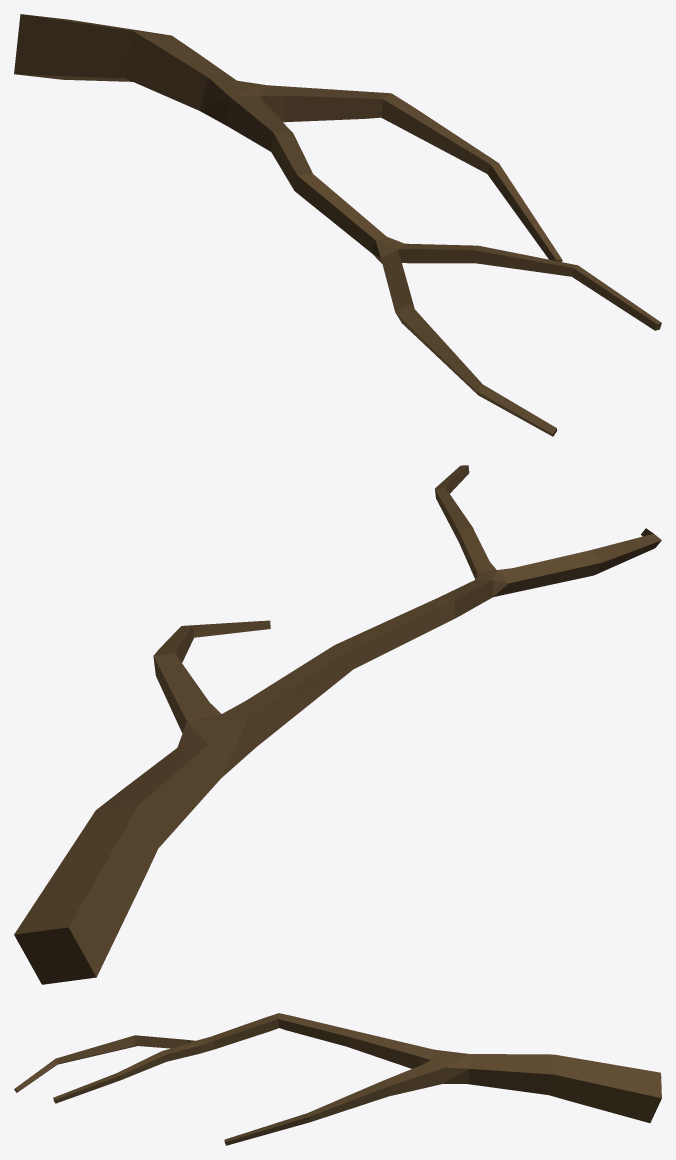
Rendered from Branch_03.fbx.
3 views of the same model, one above another, from view 1: azimuth 30°, elevation 25°; view 2: azimuth 150°, elevation 25°; view 3: azimuth 270°, elevation 25° (orthographic). The views are drawn at different scales.
Visible parts, largest first — view 1: Branch_03; view 2: Branch_03; view 3: Branch_03.
Part boxes in pixels (box(x1,y1,x2,y2)): Branch_03: box(14, 14, 661, 436); Branch_03: box(14, 465, 661, 984); Branch_03: box(14, 1013, 661, 1145).
Size of the model in its own units: 32.14 by 18.39 by 121.
